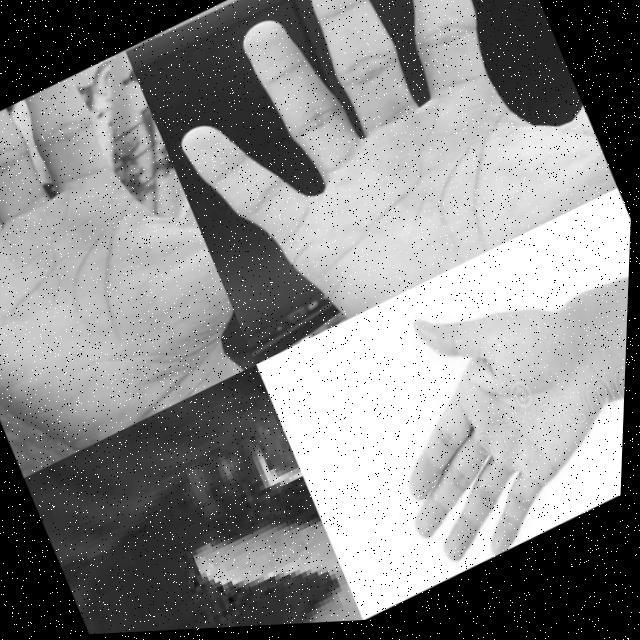no-gloves: (126, 0, 625, 366), (0, 45, 267, 479), (337, 250, 632, 592), (76, 485, 372, 636)
